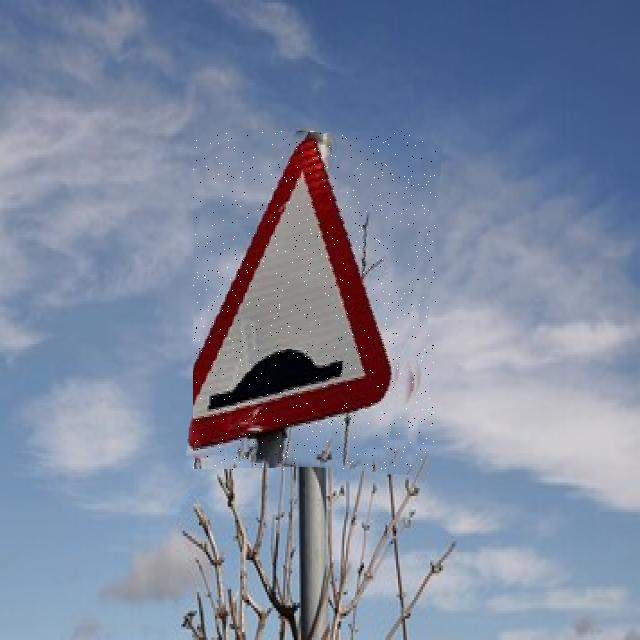hump: (193, 131, 436, 470)
